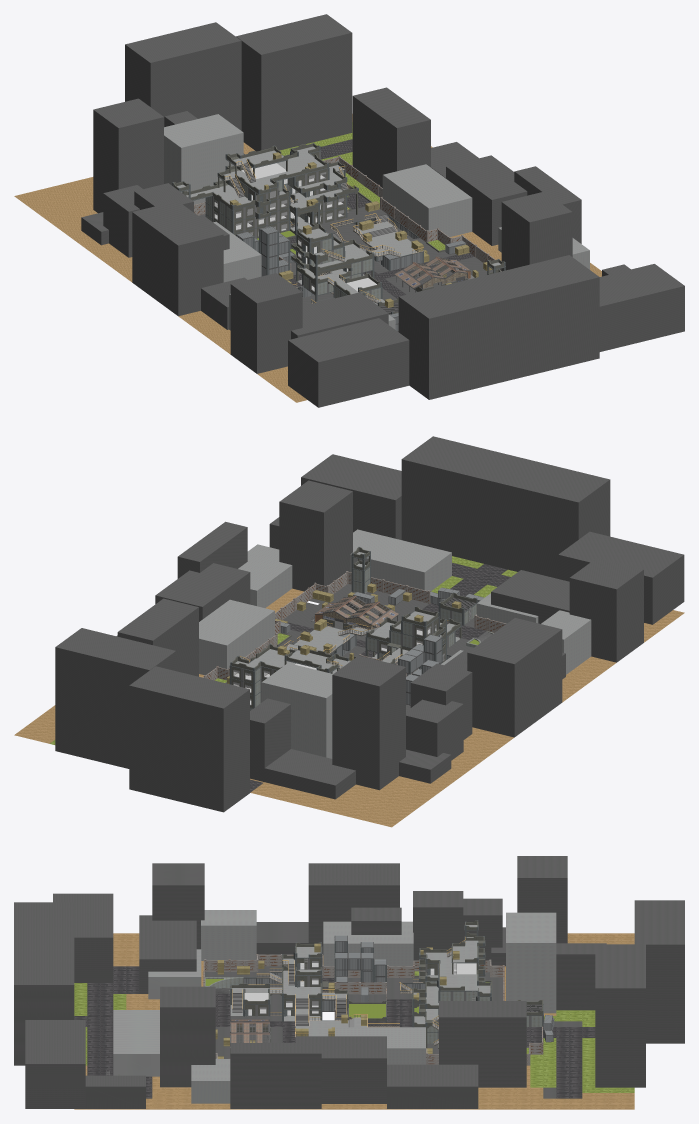
The model's file is IntelliScene_Demo.glb.
3 views of the same model, one above another, from view 1: azimuth 30°, elevation 25°; view 2: azimuth 150°, elevation 25°; view 3: azimuth 270°, elevation 25° (orthographic). The views are drawn at different scales.
Visible parts, largest first — view 1: SM_env_building_4, SM_env_building_9, SM_env_building_29, SM_env_building_28, SM_env_building_27, SM_env_building_19, SM_env_building_21, SM_env_building_6, SM_env_building_3, SM_env_building, SM_env_building_10, SM_env_building_14 (+9 smaller); view 2: SM_env_building_4, SM_env_building_29, SM_env_building_9, SM_env_building_27, SM_env_building_19, SM_env_building, SM_env_building_3, SM_env_building_28, SM_env_building_21, SM_env_building_10, SM_env_building_14, SM_env_building_25 (+12 smaller); view 3: SM_env_building_4, SM_env_building_9, SM_env_building_6, SM_env_building_29, SM_env_building_11, SM_env_building_21, SM_env_building, SM_env_building_27, SM_env_building_10, SM_env_building_15, SM_env_building_24, SM_env_building_28 (+18 smaller).
Part boxes in pixels (box(x1,y1,x2,y2)): SM_env_building_4: box(398, 255, 599, 399); SM_env_building_9: box(236, 14, 352, 151); SM_env_building_29: box(125, 22, 241, 130); SM_env_building_28: box(288, 318, 409, 407); SM_env_building_27: box(132, 201, 223, 316); SM_env_building_19: box(93, 98, 163, 213); SM_env_building_21: box(599, 264, 684, 351); SM_env_building_6: box(352, 87, 430, 187); SM_env_building_3: box(230, 273, 302, 373); SM_env_building: box(501, 191, 572, 271); SM_env_building_10: box(164, 114, 243, 204); SM_env_building_14: box(382, 164, 472, 236); SM_env_building_4: box(401, 436, 610, 578); SM_env_building_29: box(129, 666, 249, 812); SM_env_building_9: box(55, 628, 175, 768); SM_env_building_27: box(467, 618, 562, 737); SM_env_building_19: box(332, 655, 405, 790); SM_env_building: box(279, 480, 352, 591); SM_env_building_3: box(569, 558, 643, 662); SM_env_building_28: box(558, 531, 684, 624); SM_env_building_21: box(301, 454, 401, 539); SM_env_building_10: box(261, 663, 332, 758); SM_env_building_14: box(199, 599, 274, 675); SM_env_building_25: box(350, 529, 451, 590); SM_env_building_4: box(14, 902, 74, 1065); SM_env_building_9: box(595, 944, 645, 1087); SM_env_building_6: box(439, 1001, 526, 1087); SM_env_building_29: box(634, 900, 684, 1043); SM_env_building_11: box(230, 1043, 321, 1108); SM_env_building_21: box(25, 1020, 85, 1108); SM_env_building: box(160, 986, 215, 1087); SM_env_building_27: box(308, 863, 399, 954); SM_env_building_10: box(506, 912, 556, 1013); SM_env_building_15: box(295, 1036, 386, 1103); SM_env_building_24: box(387, 1064, 478, 1108); SM_env_building_28: box(53, 893, 113, 982).
Bounding box in the file's own units: 128 × 41.64 × 206.
Materials: 49 (44 with a texture image).
